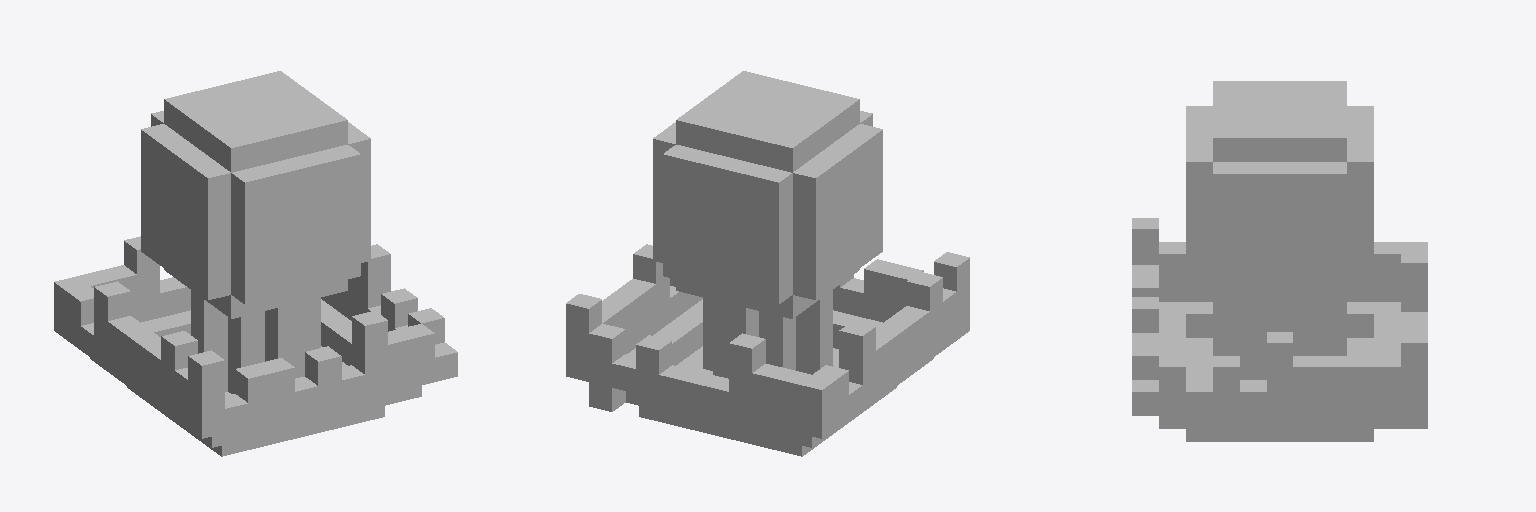
File: IceTop.obj
3 renders of one model, left to right at view 1: azimuth 30°, elevation 25°; view 2: azimuth 150°, elevation 25°; view 3: azimuth 270°, elevation 25°, orthographic.
Parts seen in each view (by area): view 1: Untitled; view 2: Untitled; view 3: Untitled.
Part boxes in pixels (x1,y1,x2,y2): Untitled: (54,71,457,456); Untitled: (566,71,969,456); Untitled: (1132,81,1427,441).
Bounding box in the file's own units: 1.1 × 1.2 × 1.1.